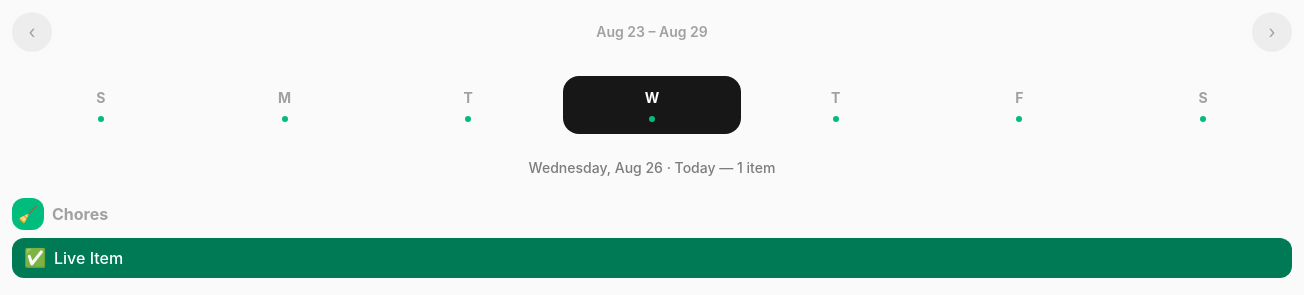
Test: WeekView history › shows a plain "no record" message for a past day with no snapshot
Click the button named "Monday": click(285, 105) [196, 76, 373, 134]
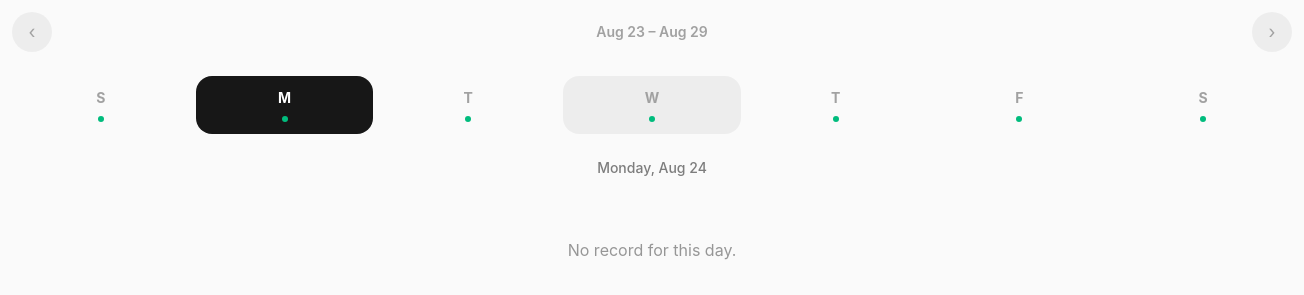
Expected: the text "No record for this day." is shown, [568, 240, 736, 260]
